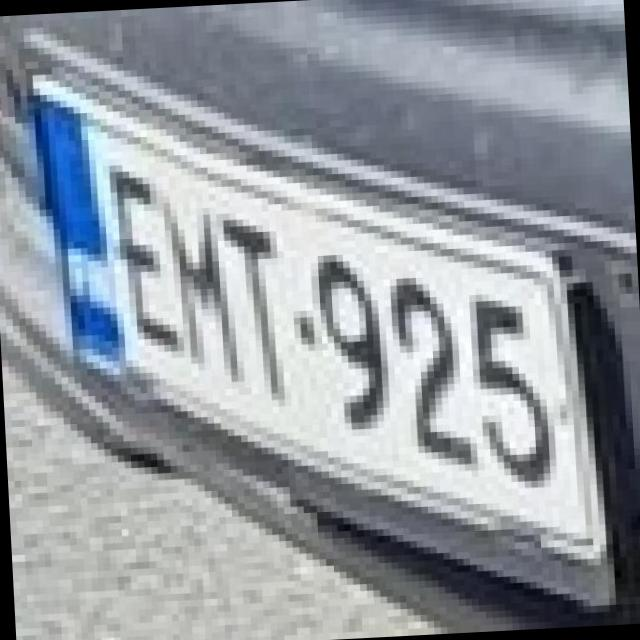2: (369, 255, 472, 469)
5: (448, 264, 557, 485)
9: (296, 233, 391, 432)
E: (88, 137, 172, 356)
M: (148, 173, 238, 386)
T: (208, 190, 292, 402)
